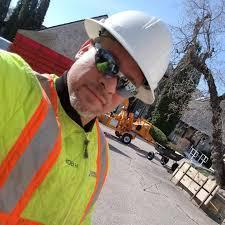helmet: (84, 10, 174, 104)
